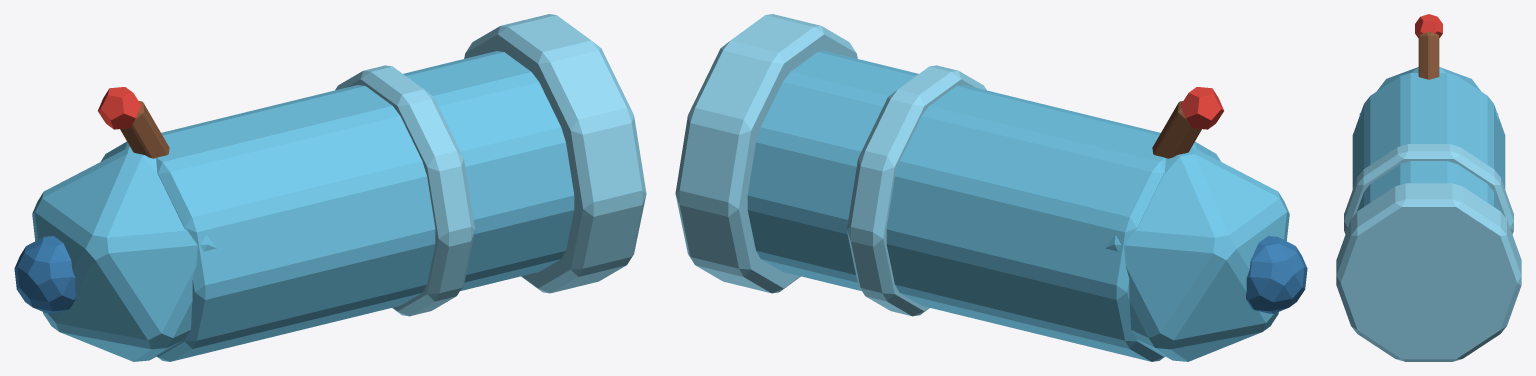
The model's file is cannon_barrel.glb.
The picture shows the model from 3 angles, left to right: view 1: azimuth 30°, elevation 25°; view 2: azimuth 150°, elevation 25°; view 3: azimuth 270°, elevation 25°; orthographic projection. The views are drawn at different scales.
Parts seen in each view (by area): view 1: cannon_barrel; view 2: cannon_barrel; view 3: cannon_barrel.
Boxes of the visible parts, x1=… form: cannon_barrel: x1=14, y1=14, x2=646, y2=361; cannon_barrel: x1=675, y1=14, x2=1307, y2=361; cannon_barrel: x1=1336, y1=14, x2=1521, y2=361.
Bounding box in the file's own units: 0.4612 × 0.2249 × 0.1943.
